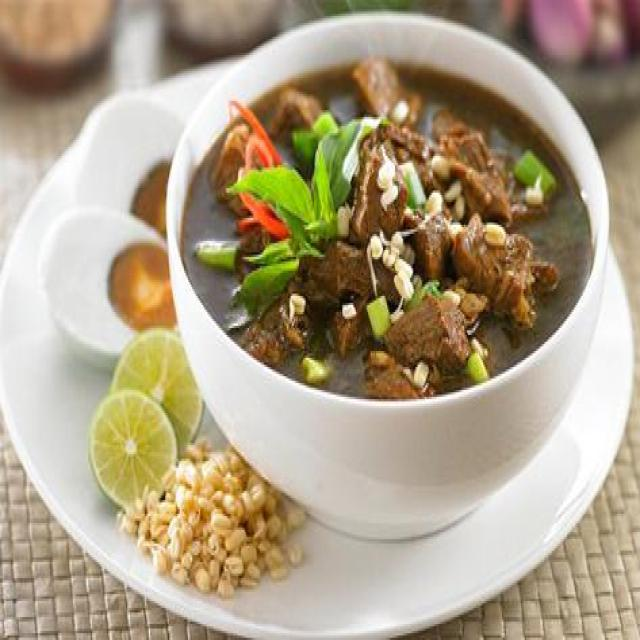Rawon: (179, 61, 591, 384)
